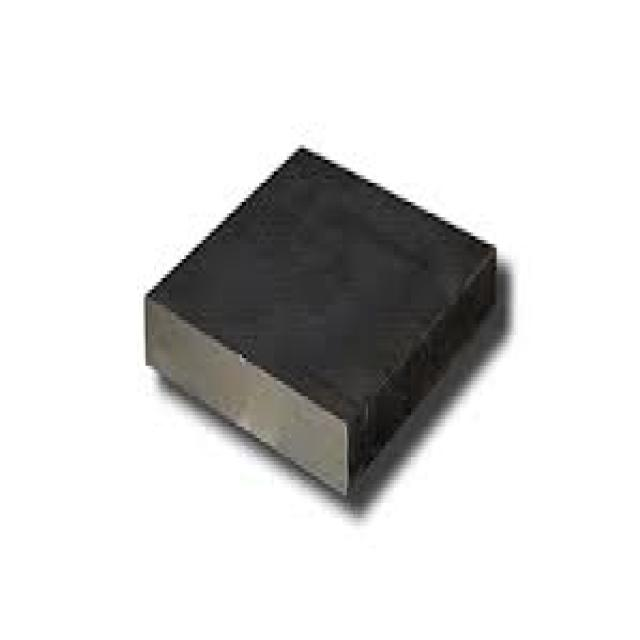Dry: (146, 149, 509, 499)
